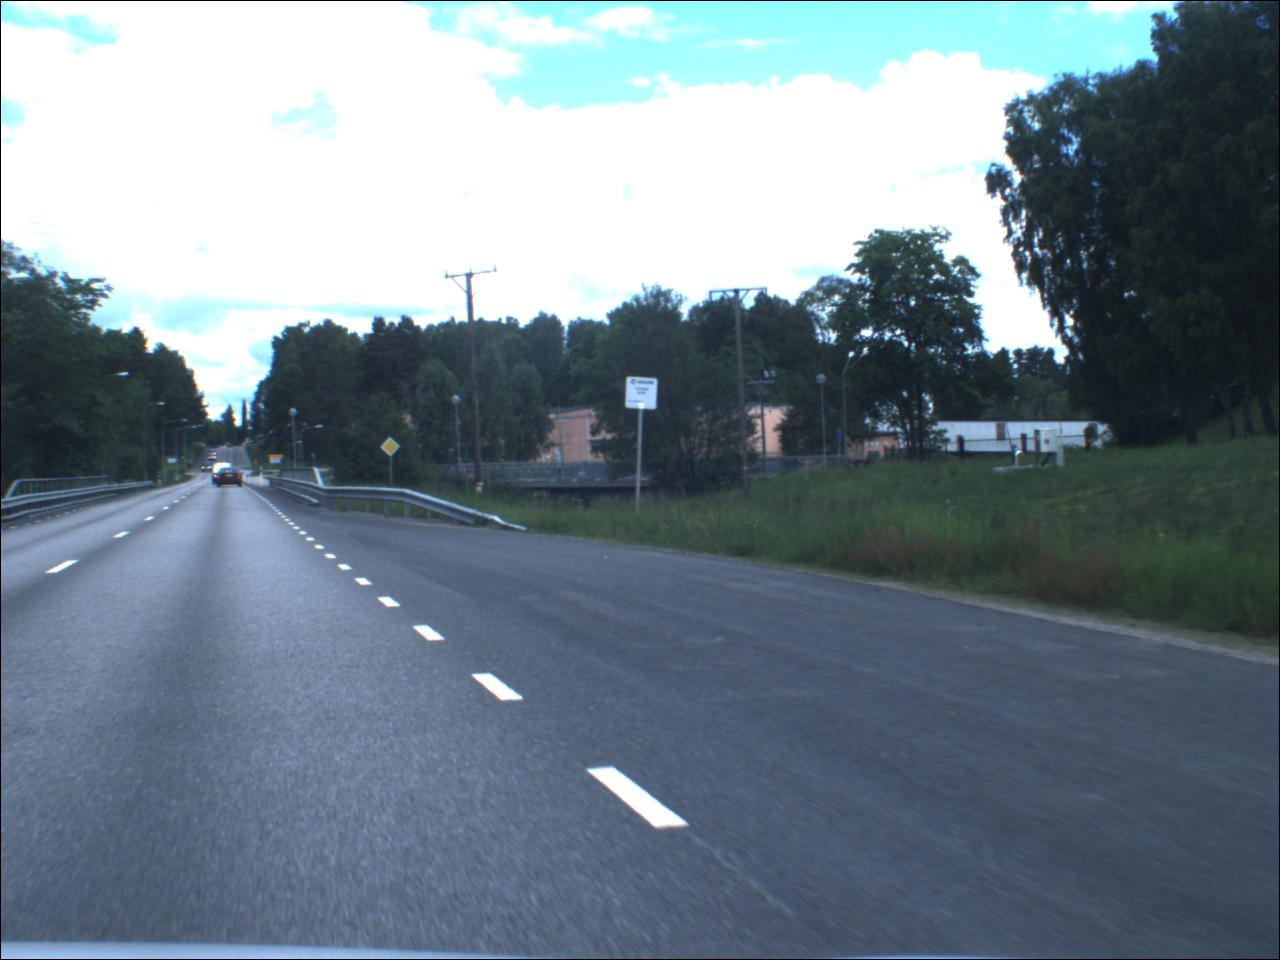PRIORITY_ROAD: (383, 438, 404, 461)
